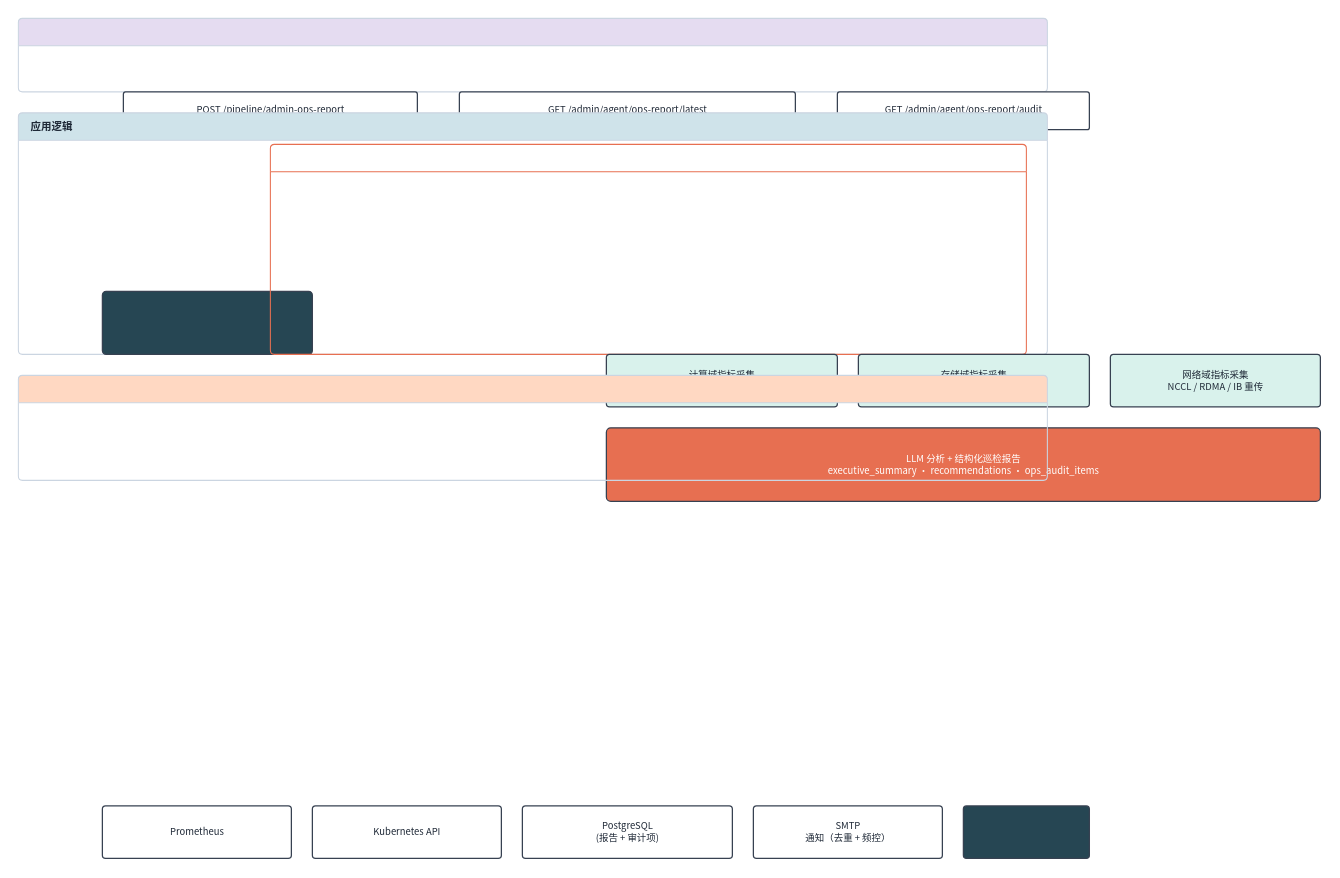
This 1340x878 diagram has some shape labels left out. Here are the shapes that lost their labels. From the top down, the box of each, then its label:
(17, 17, 1047, 92): API 层
(269, 143, 1026, 354): Inspection Pipeline (Python)
(101, 290, 312, 354): Go CronJobManager (Beat-like 触发)
(17, 374, 1047, 480): 共享基础设施
(962, 805, 1089, 858): 管理员仪表板
